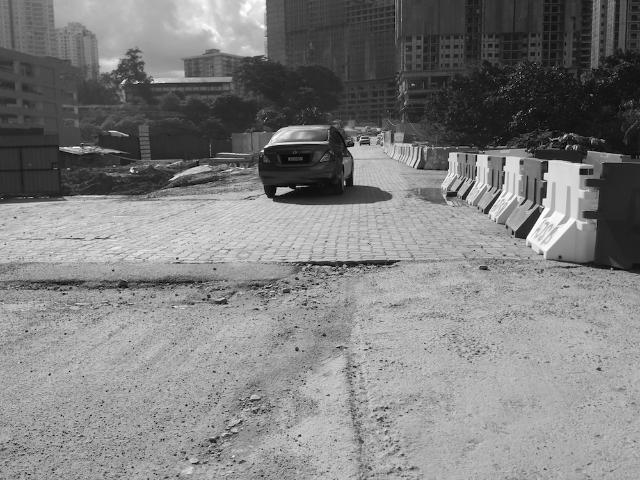Pothole: (22, 278, 212, 294), (294, 260, 400, 278)
